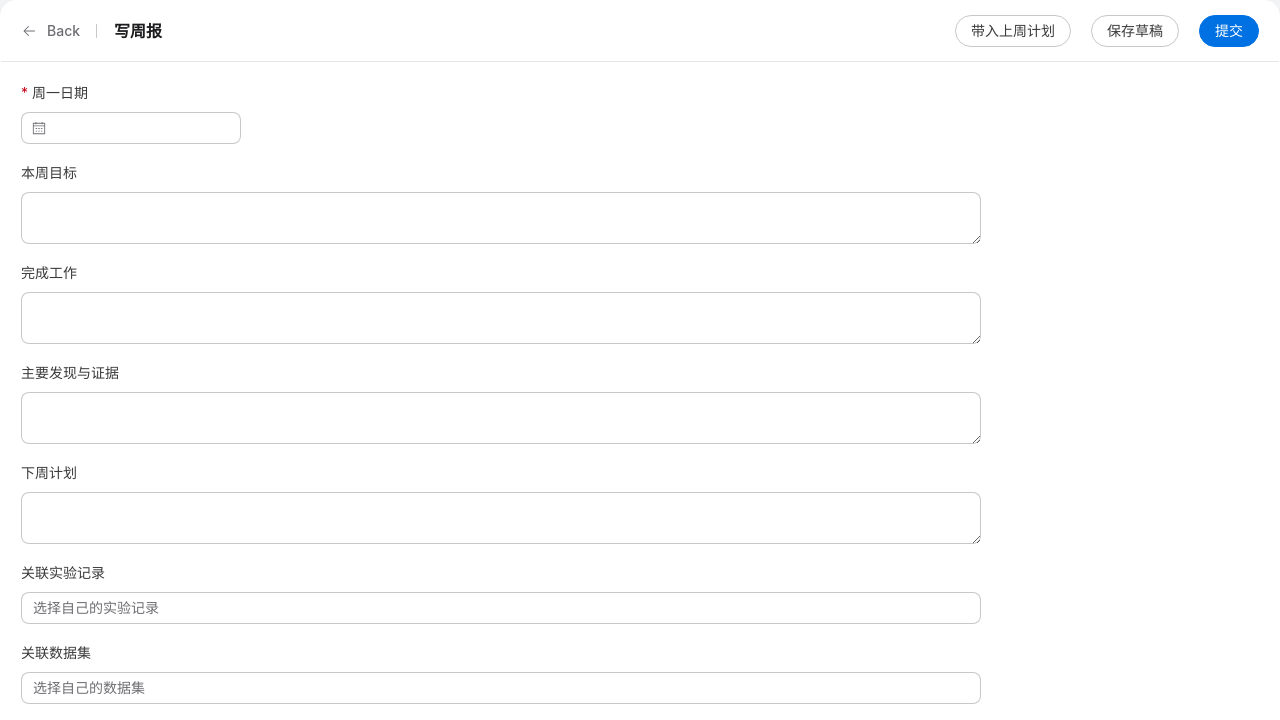
Test: carries the plan from exactly seven days earlier across New Year
Click the button "带入上周计划" at (1013, 31), box [955,15,1071,47]
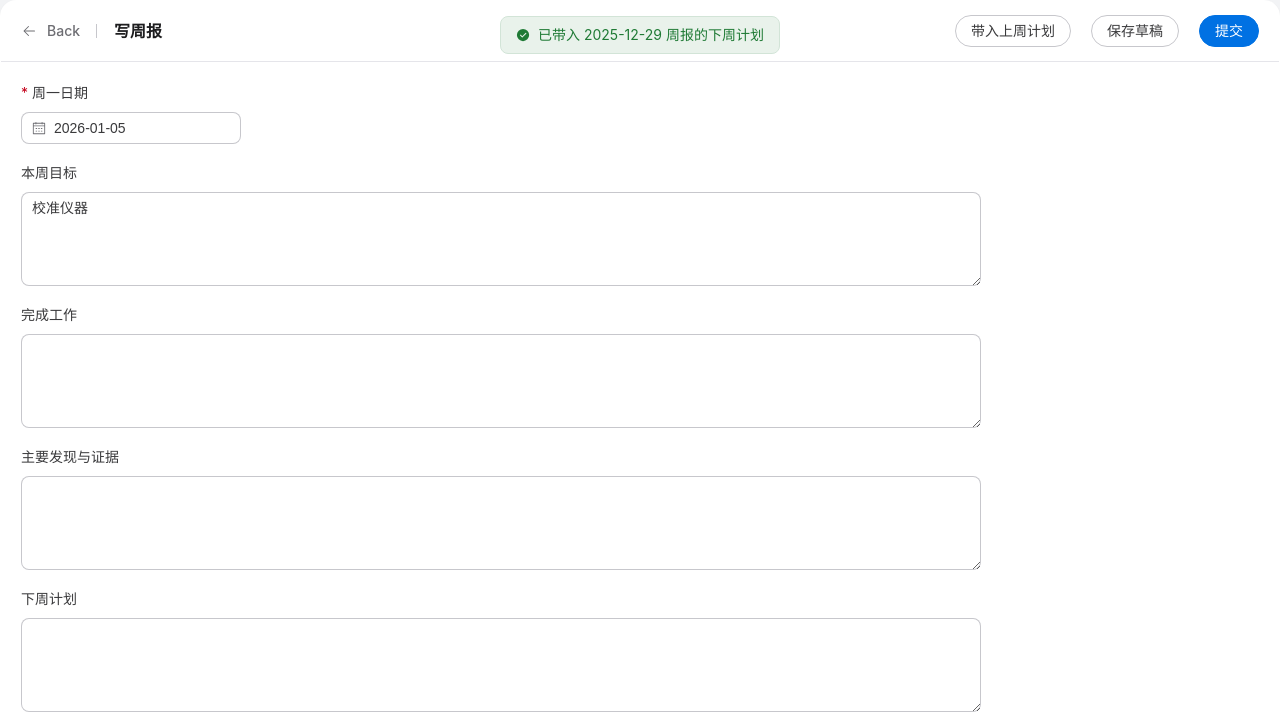
Expected: the text box labelled "本周目标" holds "校准仪器", [21,192,981,286]
